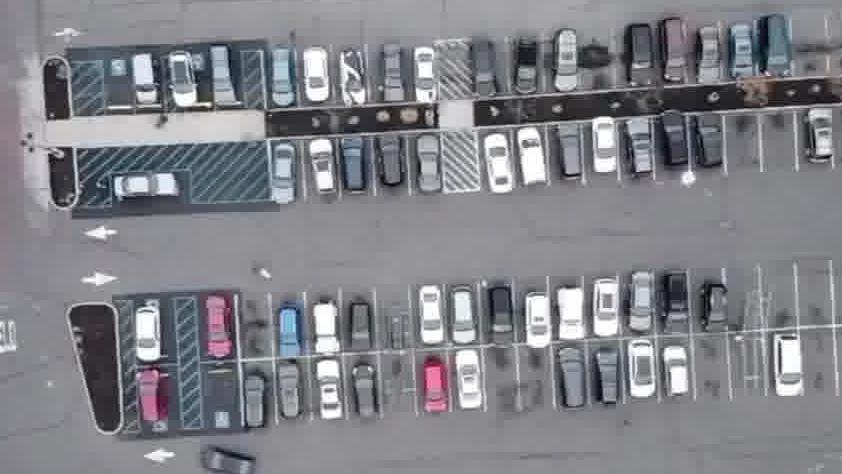car: (450, 348, 488, 415), (768, 330, 803, 400), (759, 16, 795, 81), (623, 25, 658, 90), (482, 132, 517, 197), (111, 171, 182, 203), (660, 19, 691, 88), (692, 114, 728, 173), (313, 360, 346, 424), (558, 350, 590, 416), (628, 344, 662, 406), (306, 135, 339, 198), (657, 112, 690, 175), (594, 349, 626, 412), (487, 287, 518, 352), (470, 36, 501, 100), (517, 130, 550, 190), (522, 293, 556, 351), (663, 275, 694, 338), (665, 345, 696, 408), (555, 125, 587, 186), (204, 291, 234, 356), (268, 141, 297, 206), (416, 281, 445, 346), (553, 28, 581, 95), (350, 360, 381, 420), (419, 359, 450, 419), (556, 287, 588, 345), (168, 52, 201, 108), (452, 284, 480, 350), (593, 280, 623, 341), (414, 133, 443, 195), (800, 109, 831, 167), (375, 132, 405, 191), (339, 134, 368, 195), (313, 297, 344, 354), (202, 441, 255, 474), (305, 46, 334, 106), (382, 44, 411, 104), (242, 367, 270, 429), (625, 121, 654, 180), (138, 364, 167, 423), (209, 46, 238, 104), (728, 26, 757, 84), (701, 284, 731, 340), (135, 302, 163, 361), (269, 46, 296, 107), (513, 37, 539, 100), (414, 44, 441, 104), (628, 269, 653, 333), (340, 47, 368, 104), (277, 360, 304, 419), (591, 119, 617, 180), (132, 51, 161, 104), (273, 302, 302, 355), (698, 27, 723, 88), (350, 301, 374, 354)
